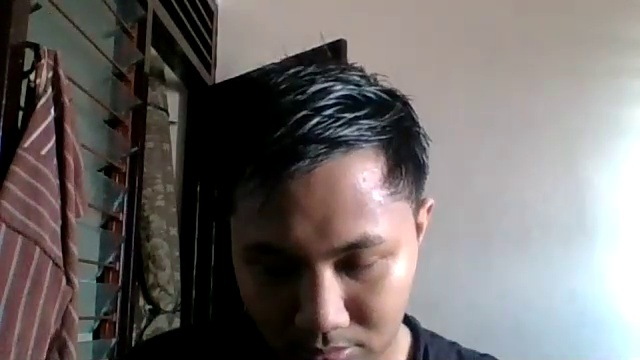Distracted: (225, 117, 430, 360)
